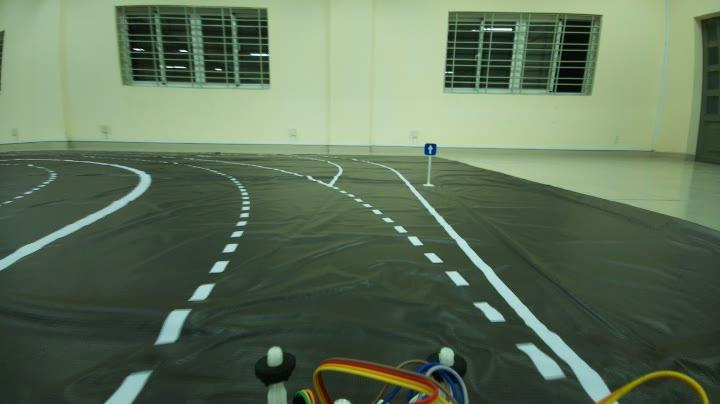onewayroad: (418, 139, 443, 160)
